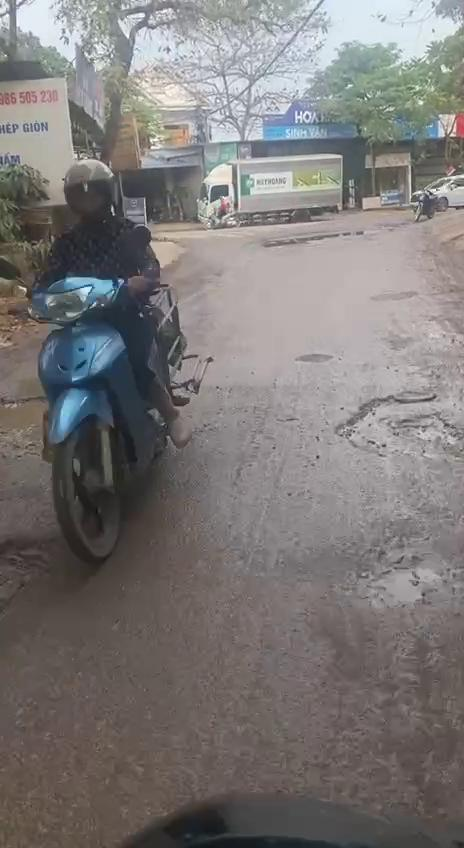pothole: (339, 392, 464, 457), (0, 530, 69, 616), (360, 562, 448, 614), (0, 392, 56, 450)
